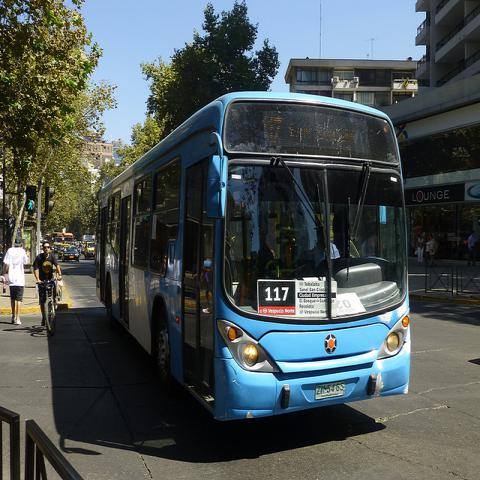bus: (96, 91, 411, 420)
car: (61, 247, 80, 262), (58, 243, 72, 259), (54, 243, 62, 254)
truck: (84, 241, 94, 259)
